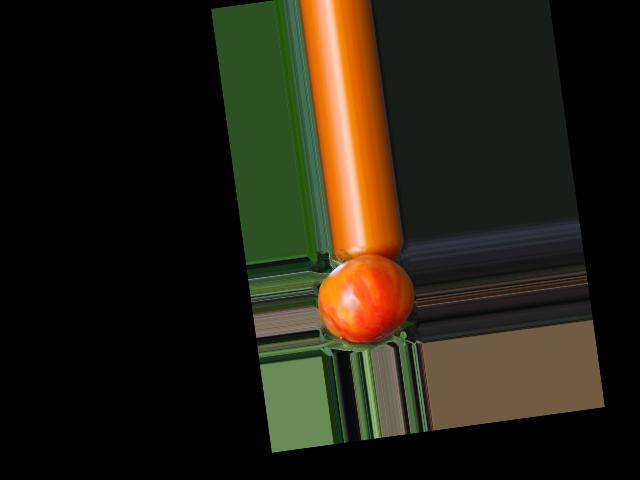tomato: (312, 249, 420, 347)
